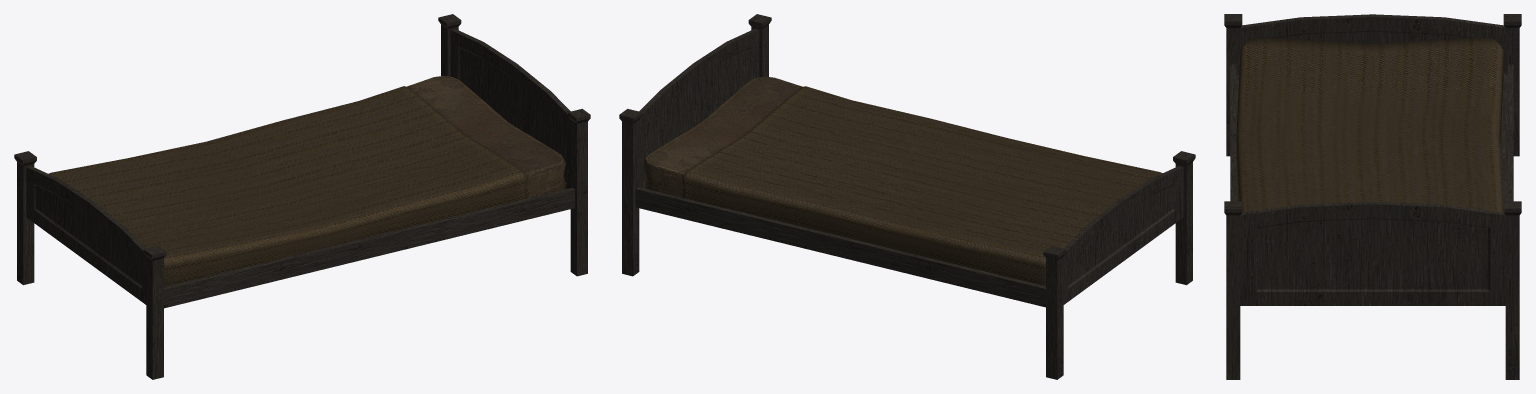
Rendered from bed_5.glb.
The picture shows the model from 3 angles, left to right: view 1: azimuth 30°, elevation 25°; view 2: azimuth 150°, elevation 25°; view 3: azimuth 270°, elevation 25°; orthographic projection. The views are drawn at different scales.
Visible parts, largest first — view 1: bed_5; view 2: bed_5; view 3: bed_5.
Part boxes in pixels (x1=…): bed_5: x1=14, y1=14, x2=590, y2=379; bed_5: x1=619, y1=14, x2=1195, y2=379; bed_5: x1=1224, y1=14, x2=1521, y2=379.
Size of the model in its own units: 2.74 by 0.9621 by 1.49.
2 materials, 2 textured.
